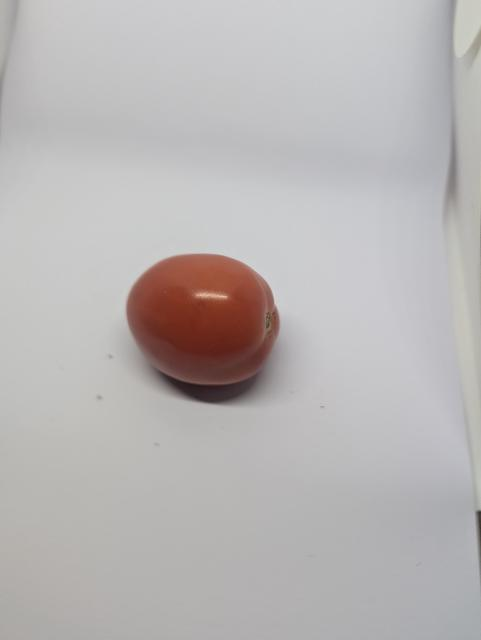red: (125, 251, 283, 389)
